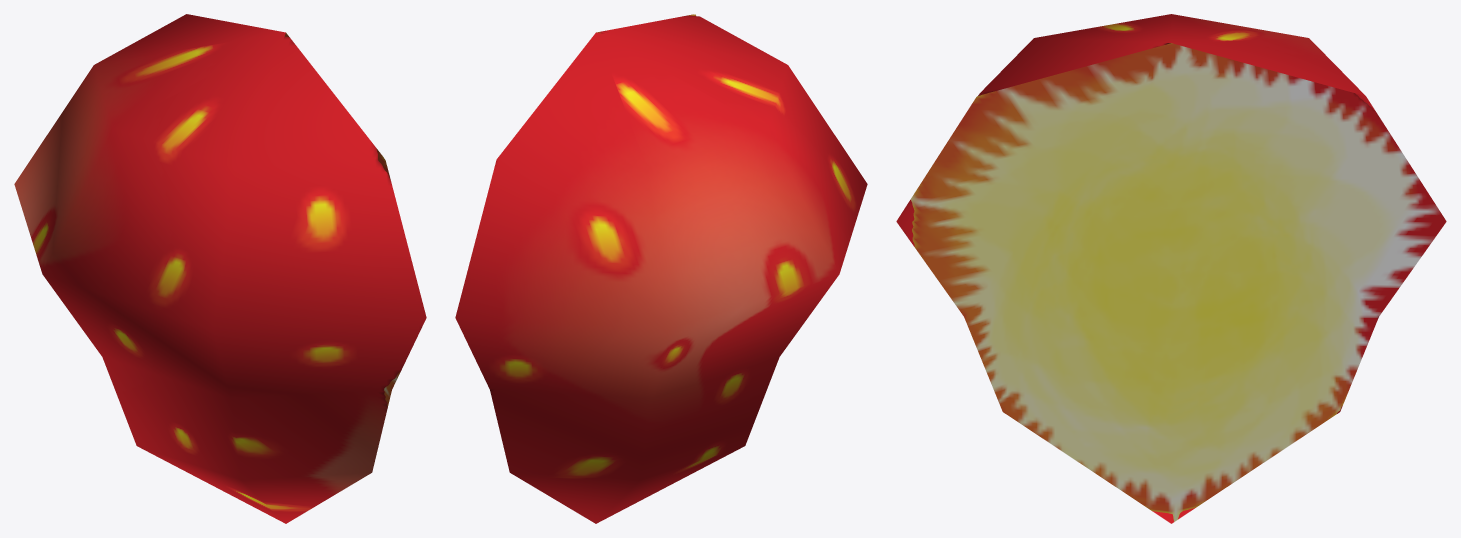
File: StraberyS.FBX
3 views of the same model, side by side, from view 1: azimuth 30°, elevation 25°; view 2: azimuth 150°, elevation 25°; view 3: azimuth 270°, elevation 25° (orthographic). The views are drawn at different scales.
Parts seen in each view (by area): view 1: Strawberry Slice; view 2: Strawberry Slice; view 3: Strawberry Slice.
Boxes of the visible parts, x1,y1,x2,y2 form: Strawberry Slice: [14, 14, 426, 523]; Strawberry Slice: [455, 14, 867, 523]; Strawberry Slice: [896, 14, 1446, 523].
Bounding box in the file's own units: 2.63 × 5.07 × 5.25.
